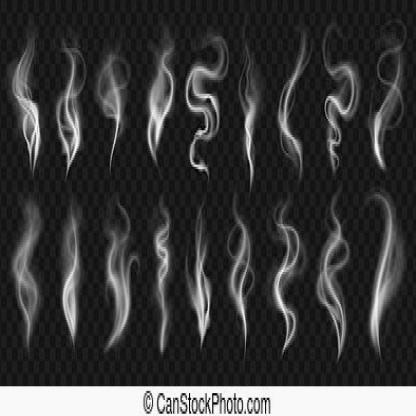smoke: (184, 32, 232, 185), (319, 25, 358, 174), (368, 28, 408, 172), (276, 32, 312, 183), (316, 206, 350, 359), (368, 206, 402, 352), (144, 36, 178, 176), (11, 206, 44, 350), (104, 217, 139, 352), (11, 32, 44, 174), (96, 48, 132, 178), (53, 37, 86, 178), (270, 212, 300, 354), (226, 210, 251, 350), (186, 210, 211, 348), (238, 57, 263, 190), (59, 210, 81, 348), (154, 201, 172, 352)
